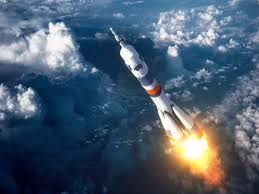ten_lua: (110, 28, 206, 147)
